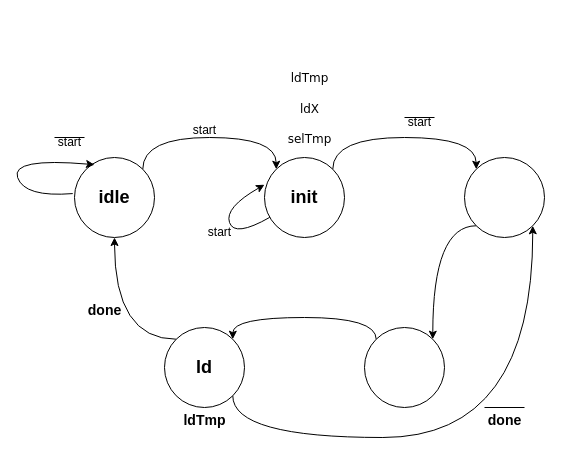
Some shapes in this 563 by 467 pixel diagram are drawn without their labels. The centre of each missing label's shape, as x and y in pixels:
Add: (x=404, y=367)
Mul: (x=504, y=197)
